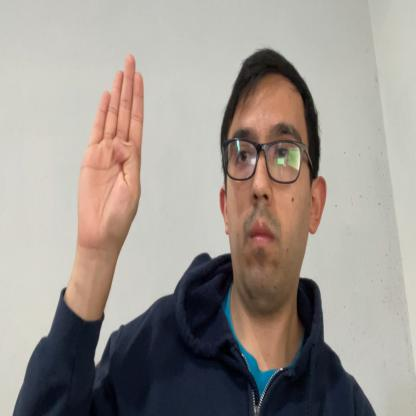B: (78, 53, 144, 257)
